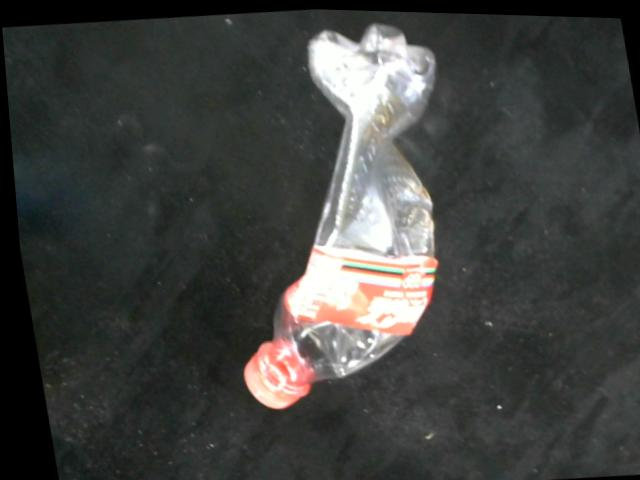bottle: (235, 18, 435, 407)
